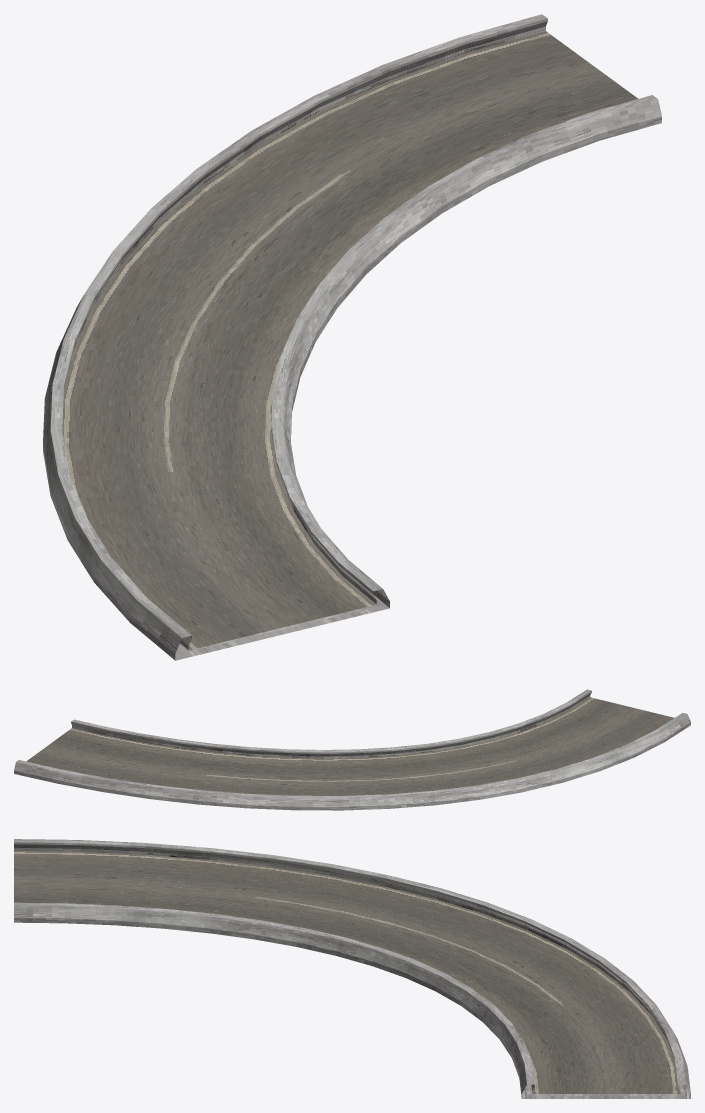
The model's file is road-Turn-Flat-Flat-Up1-Right-Size4.glb.
3 views of the same model, one above another, from view 1: azimuth 30°, elevation 25°; view 2: azimuth 150°, elevation 25°; view 3: azimuth 270°, elevation 25° (orthographic). The views are drawn at different scales.
Visible parts, largest first — view 1: road-Turn-Flat-Flat-Up1-Right-Size4; view 2: road-Turn-Flat-Flat-Up1-Right-Size4; view 3: road-Turn-Flat-Flat-Up1-Right-Size4.
Part boxes in pixels (box(x1,y1,x2,y2)): road-Turn-Flat-Flat-Up1-Right-Size4: box(43, 14, 661, 660); road-Turn-Flat-Flat-Up1-Right-Size4: box(14, 689, 690, 810); road-Turn-Flat-Flat-Up1-Right-Size4: box(14, 839, 690, 1098).
Size of the model in its own units: 4 by 0.3438 by 4.
2 materials, 2 textured.
